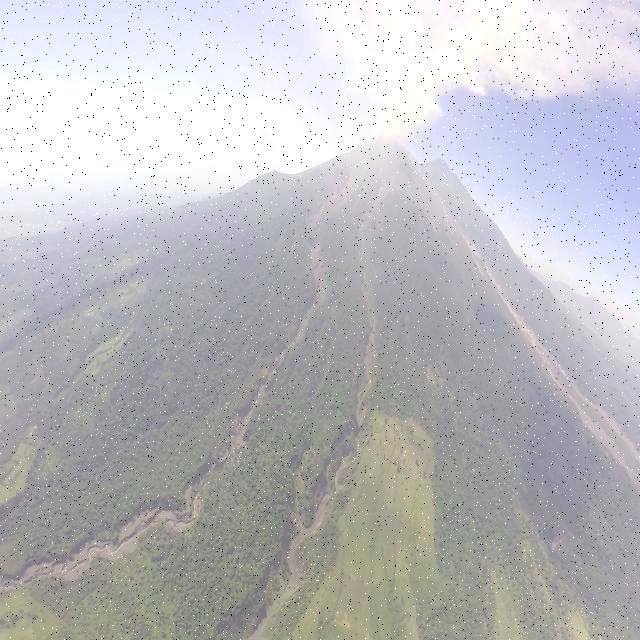Plume: (337, 0, 631, 129)
Summit: (358, 122, 406, 146)
